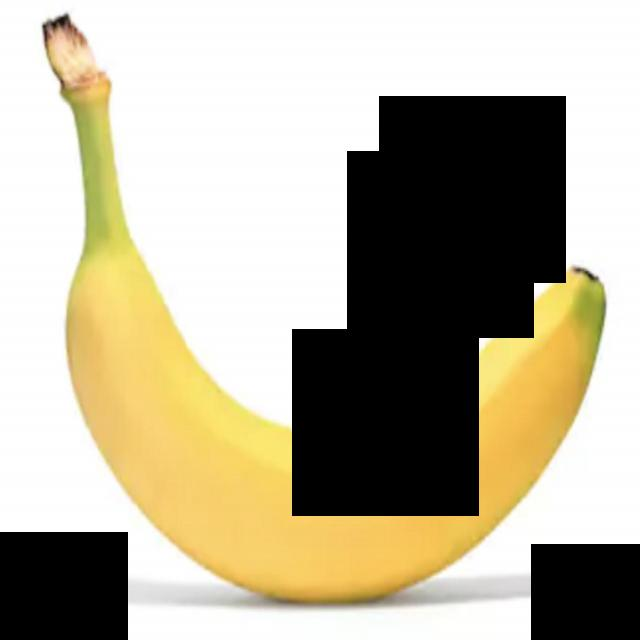banana: (0, 7, 638, 636)
